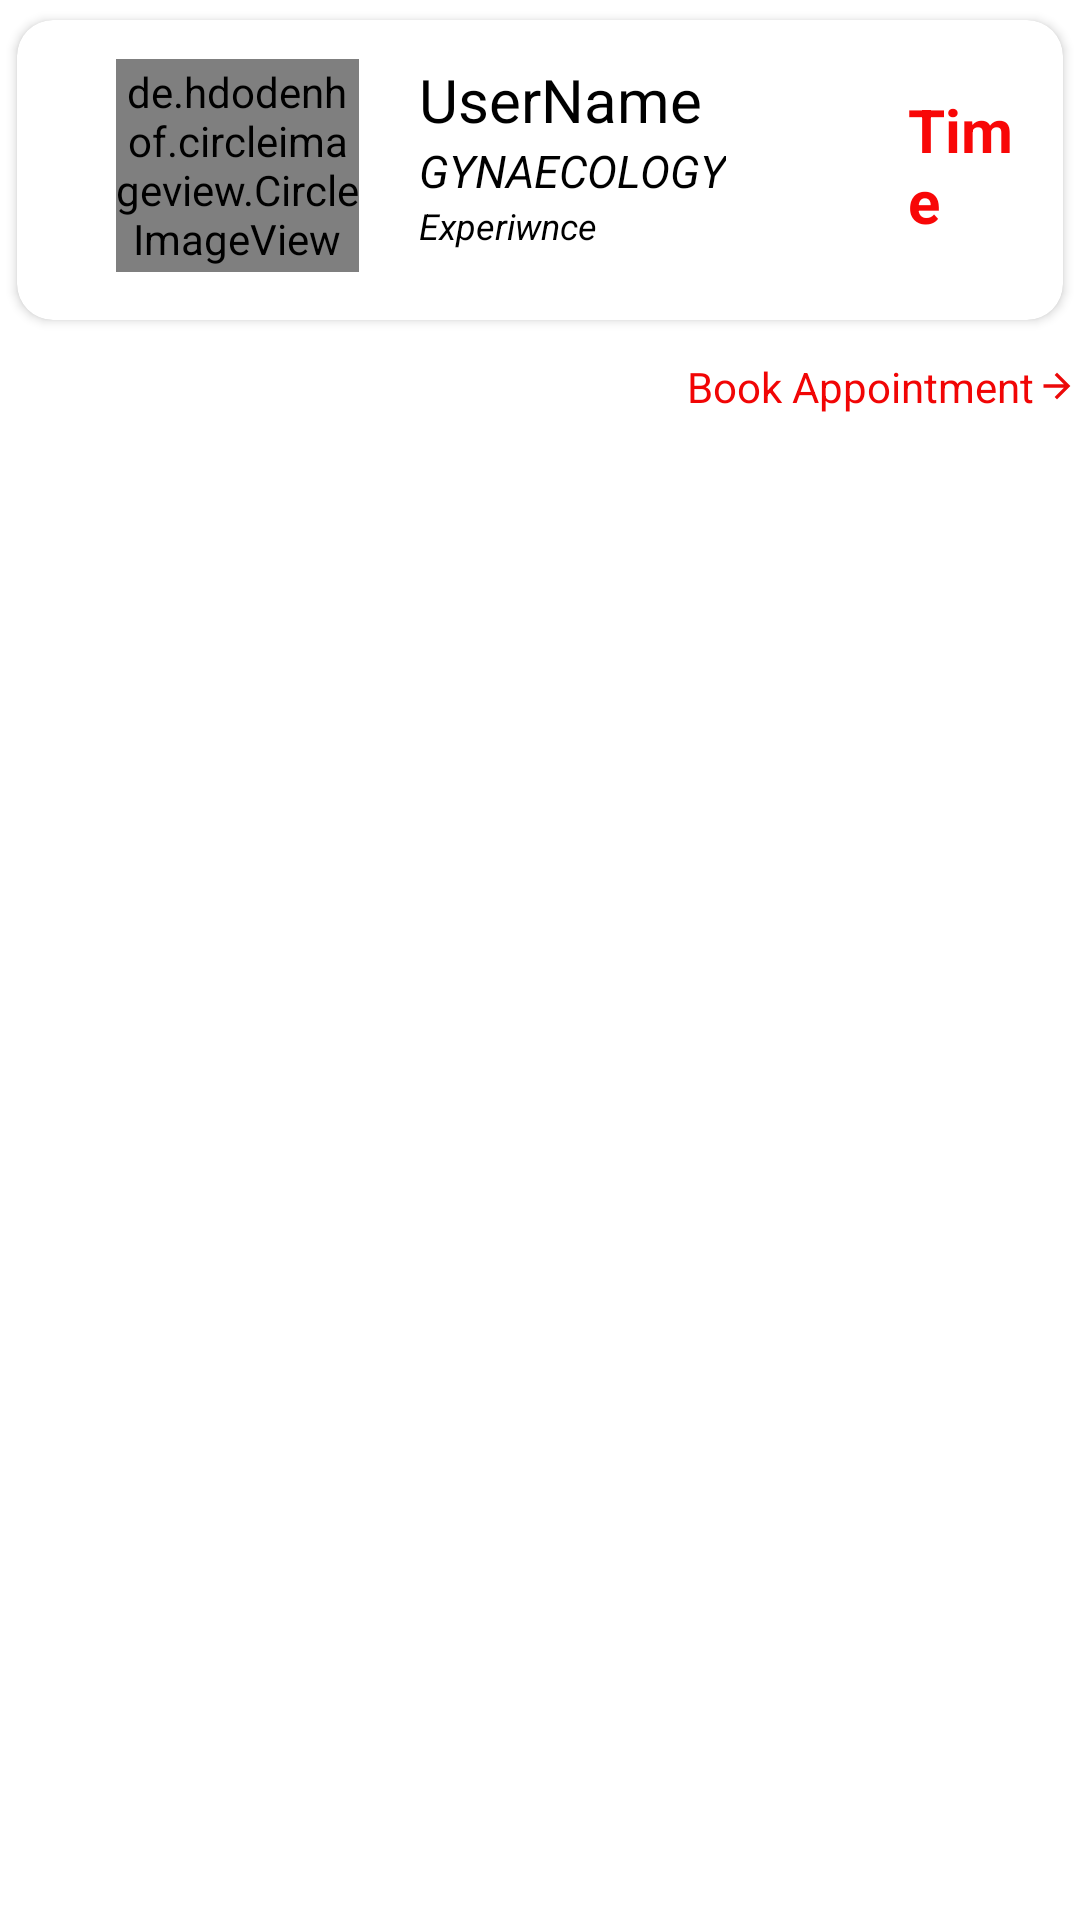

Named icons in this screenshot (1080x1920) and their bounding boxes, (x1, y1, x2, y2):
arrowright: (1043, 373, 1070, 399)
